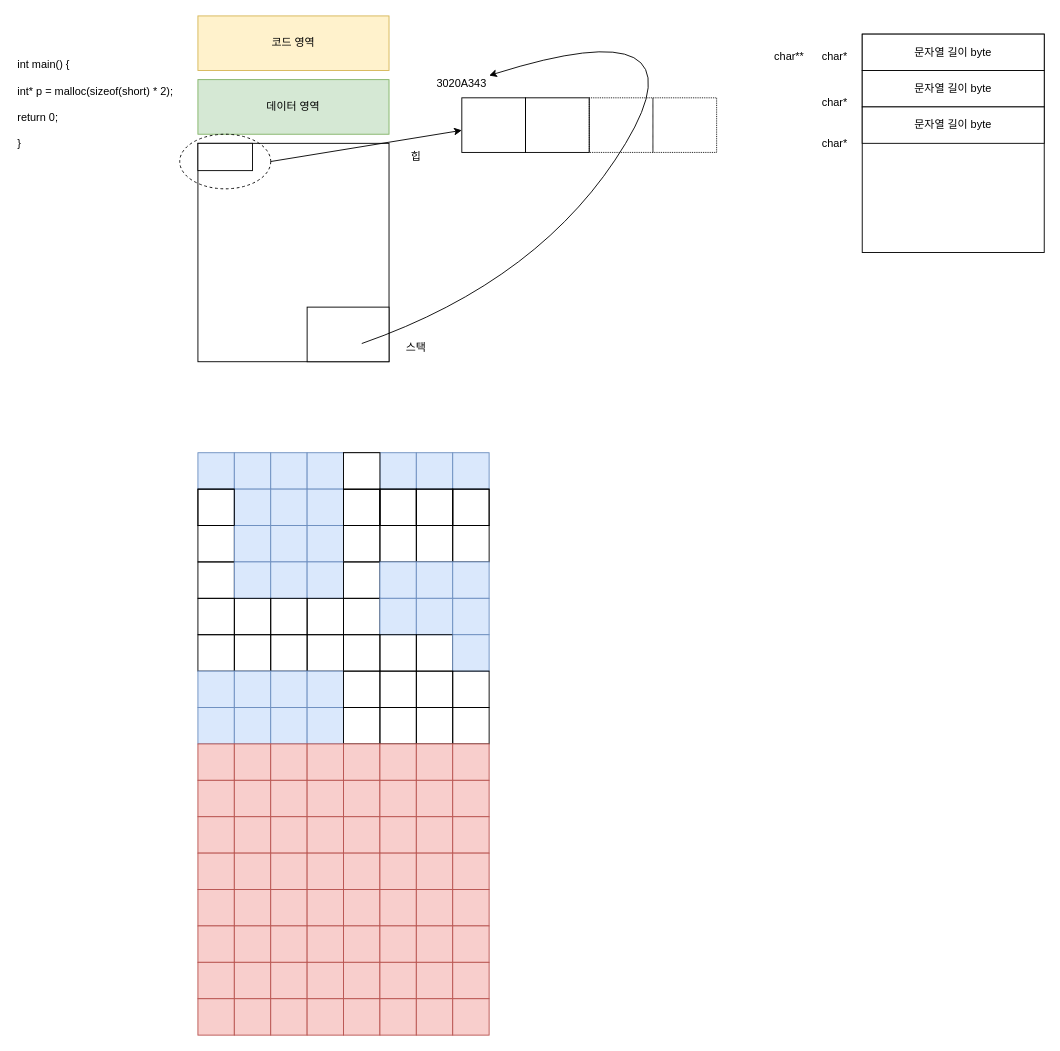
This 1060x1051 diagram has some shape labels left out. Each missing label, with the box of its shape:
2byte: (197, 142, 253, 171)
main int* p int a: (306, 306, 389, 362)
